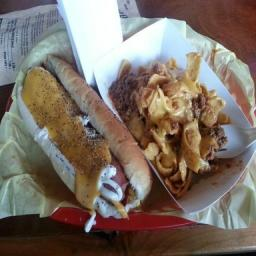hotdog: (106, 156, 133, 213)
